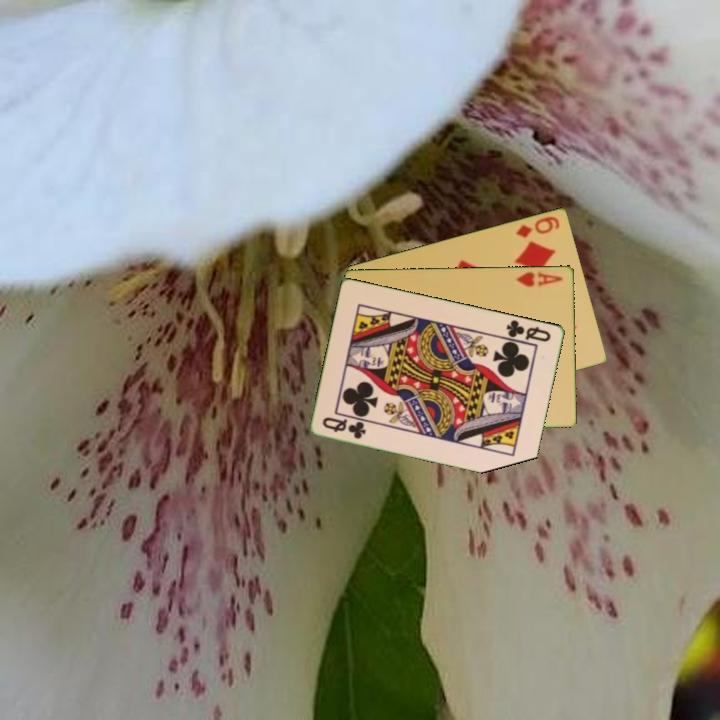6d: (513, 212, 563, 240)
Ah: (513, 268, 565, 289)
Qc: (319, 413, 369, 442), (503, 316, 554, 344)
